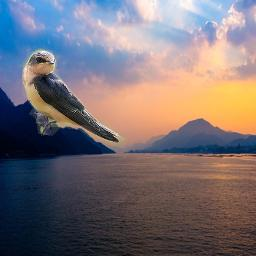Swallow: (22, 45, 129, 148)
